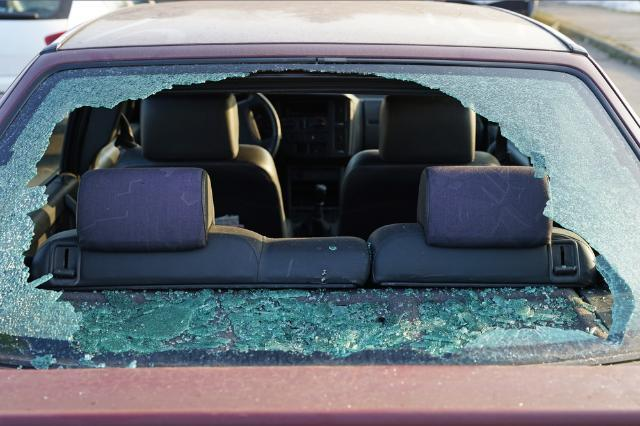glass shatter: (0, 62, 640, 369)
